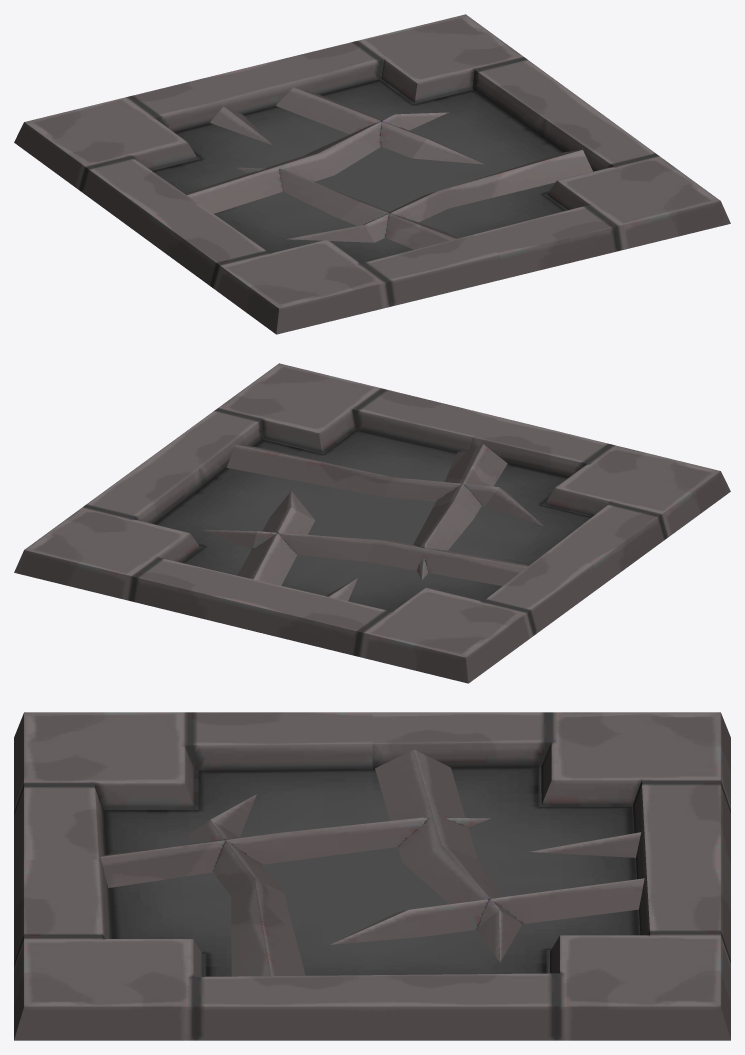
File: penhuo.fbx
3 renders of one model, top to bottom at view 1: azimuth 30°, elevation 25°; view 2: azimuth 150°, elevation 25°; view 3: azimuth 270°, elevation 25°, orthographic. The views are drawn at different scales.
Parts seen in each view (by area): view 1: penhuo_cool; view 2: penhuo_cool; view 3: penhuo_cool.
Part boxes in pixels (box(x1,y1,x2,y2)): penhuo_cool: box(14, 14, 730, 334); penhuo_cool: box(14, 363, 730, 683); penhuo_cool: box(14, 712, 730, 1040).
Bounding box in the file's own units: 2 × 0.0909 × 2.
